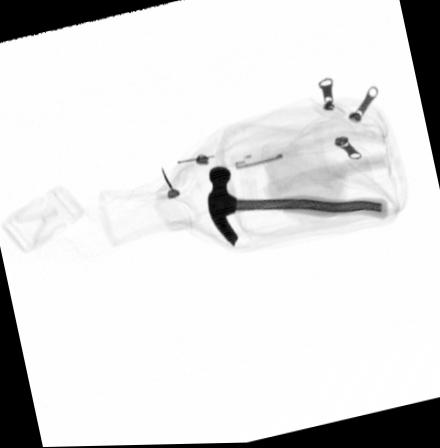Hammer: (207, 167, 388, 248)
